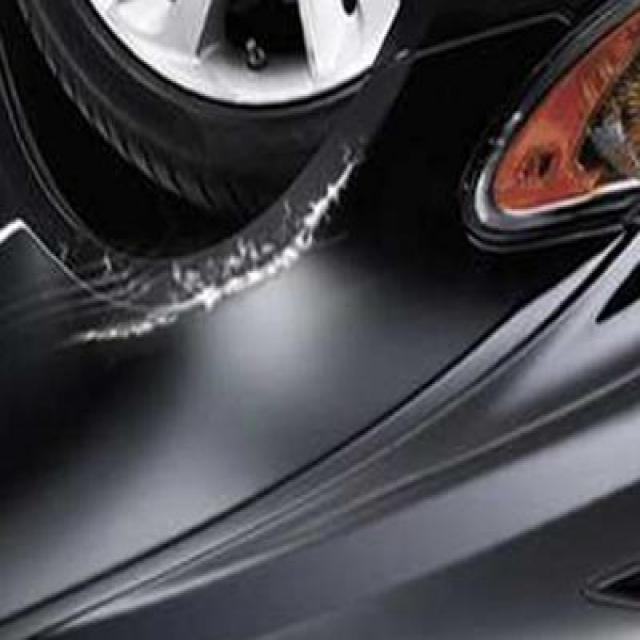scratch: (21, 126, 372, 406)
